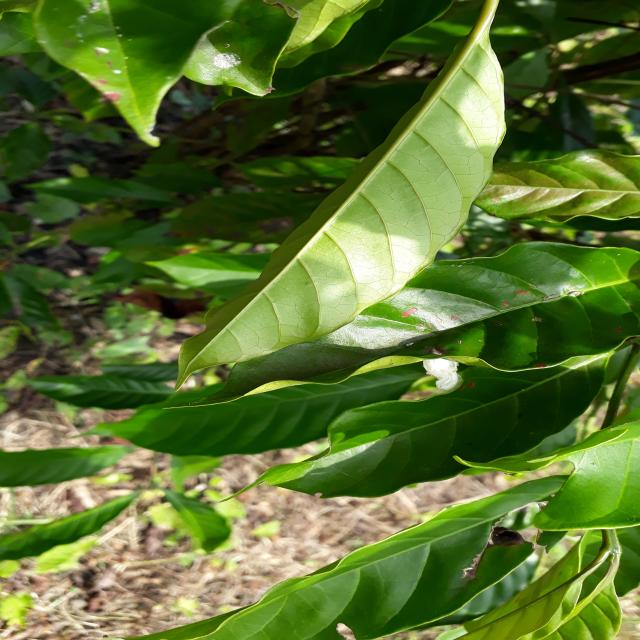Sanas: (179, 0, 509, 386)
